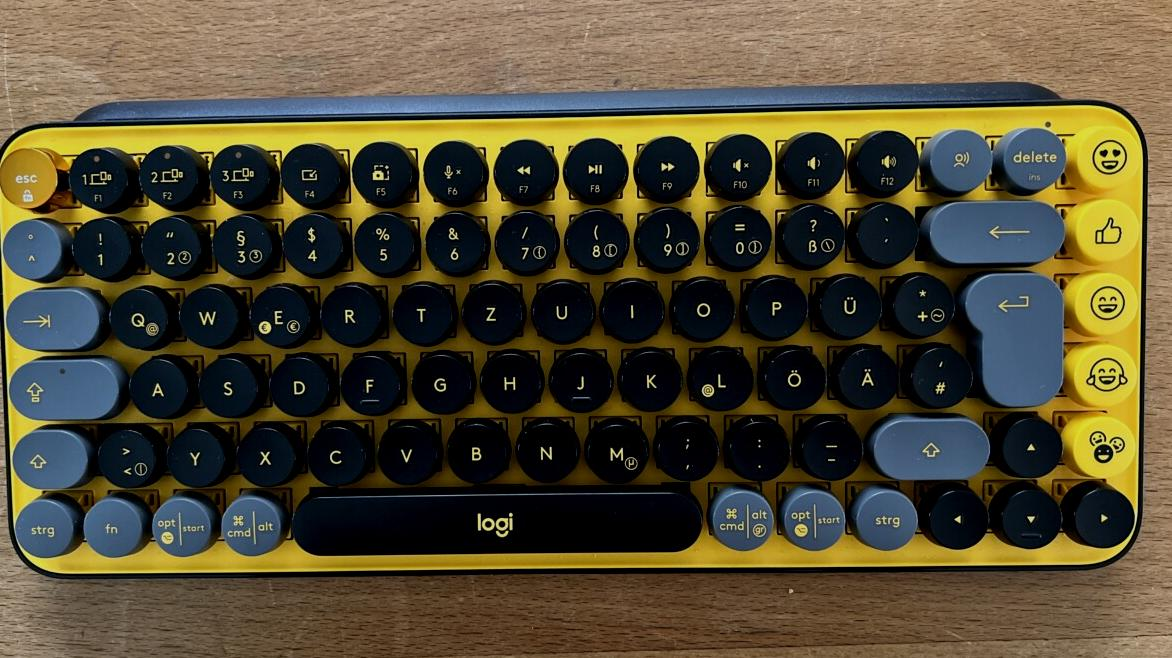0: (706, 203, 771, 267)
1: (71, 213, 129, 274)
2: (141, 212, 201, 274)
3: (212, 212, 273, 273)
4: (283, 210, 342, 271)
5: (353, 210, 414, 271)
6: (424, 209, 485, 271)
7: (493, 207, 557, 270)
8: (564, 206, 628, 269)
9: (634, 205, 699, 267)
a: (129, 354, 186, 415)
accent: (853, 198, 914, 261)
ae: (835, 341, 895, 405)
alt-left: (150, 492, 213, 555)
altgr-right: (778, 482, 845, 549)
b: (445, 415, 506, 480)
c: (306, 419, 366, 483)
caret: (1, 214, 59, 276)
comma: (654, 413, 715, 477)
d: (269, 351, 328, 414)
del: (922, 196, 1067, 262)
e: (250, 281, 311, 345)
enter: (962, 269, 1063, 402)
f: (340, 349, 399, 411)
g: (411, 348, 471, 411)
h: (480, 347, 539, 409)
hash: (907, 340, 970, 405)
i: (599, 275, 662, 337)
j: (549, 345, 610, 408)
k: (618, 344, 679, 408)
keyboard: (1, 91, 1155, 586)
l: (687, 343, 751, 408)
less: (96, 422, 156, 485)
m: (584, 415, 646, 481)
minus: (798, 413, 859, 475)
n: (515, 415, 576, 479)
o: (670, 273, 734, 337)
oe: (760, 343, 823, 407)
p: (743, 273, 805, 336)
plus: (891, 269, 953, 335)
point: (727, 413, 787, 476)
q: (108, 283, 170, 347)
r: (321, 280, 380, 342)
s: (198, 353, 257, 414)
shift-left: (10, 424, 86, 487)
shift-lock: (6, 353, 119, 418)
shift-right: (868, 412, 989, 479)
space: (287, 487, 703, 553)
ss: (778, 201, 842, 264)
strg-left: (12, 494, 74, 556)
strg-right: (851, 483, 916, 548)
t: (392, 279, 451, 340)
tab: (3, 283, 99, 348)
u: (530, 276, 592, 339)
ue: (816, 270, 878, 334)
v: (376, 416, 437, 481)
w: (179, 280, 238, 343)
x: (237, 420, 295, 482)
y: (166, 421, 224, 484)
z: (461, 277, 522, 339)
